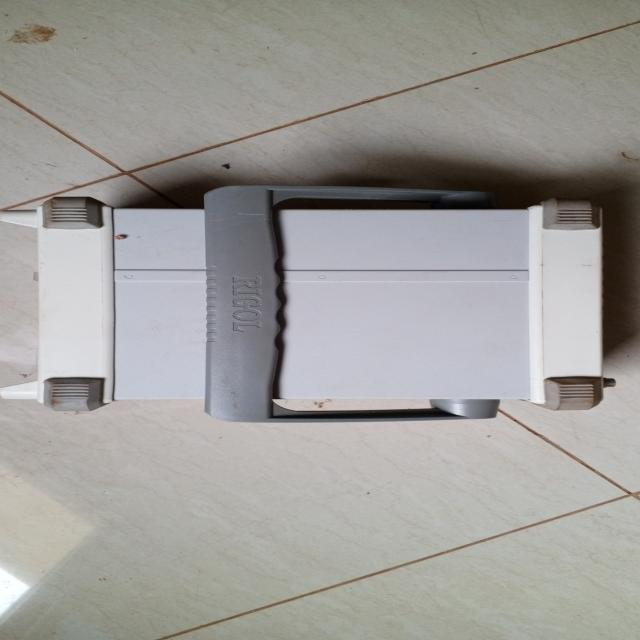Function Arbitrary Wave Form Generator 25Mhz: (21, 186, 640, 435)
